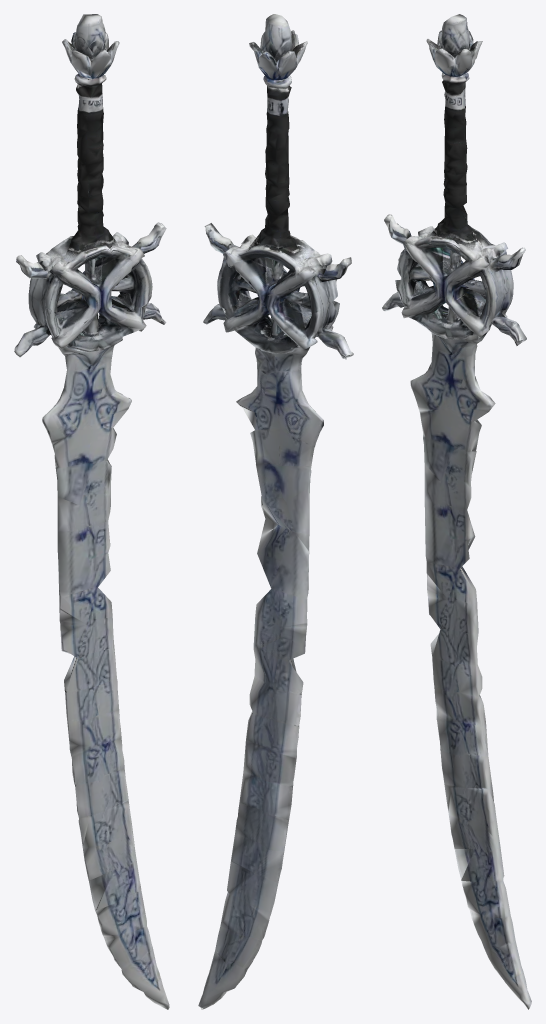
The model's file is mx_dr_w_celestial.glb.
3 views of the same model, side by side, from view 1: azimuth 30°, elevation 25°; view 2: azimuth 150°, elevation 25°; view 3: azimuth 330°, elevation 25° (orthographic). The views are drawn at different scales.
Parts seen in each view (by area): view 1: Mesh_0; view 2: Mesh_0; view 3: Mesh_0.
Boxes of the visible parts, x1,y1,x2,y2 form: Mesh_0: (14, 14, 169, 1009); Mesh_0: (198, 14, 353, 1009); Mesh_0: (382, 14, 531, 1009).
Size of the model in its own units: 0.3008 by 1.9 by 0.1035.
1 material, 1 textured.
